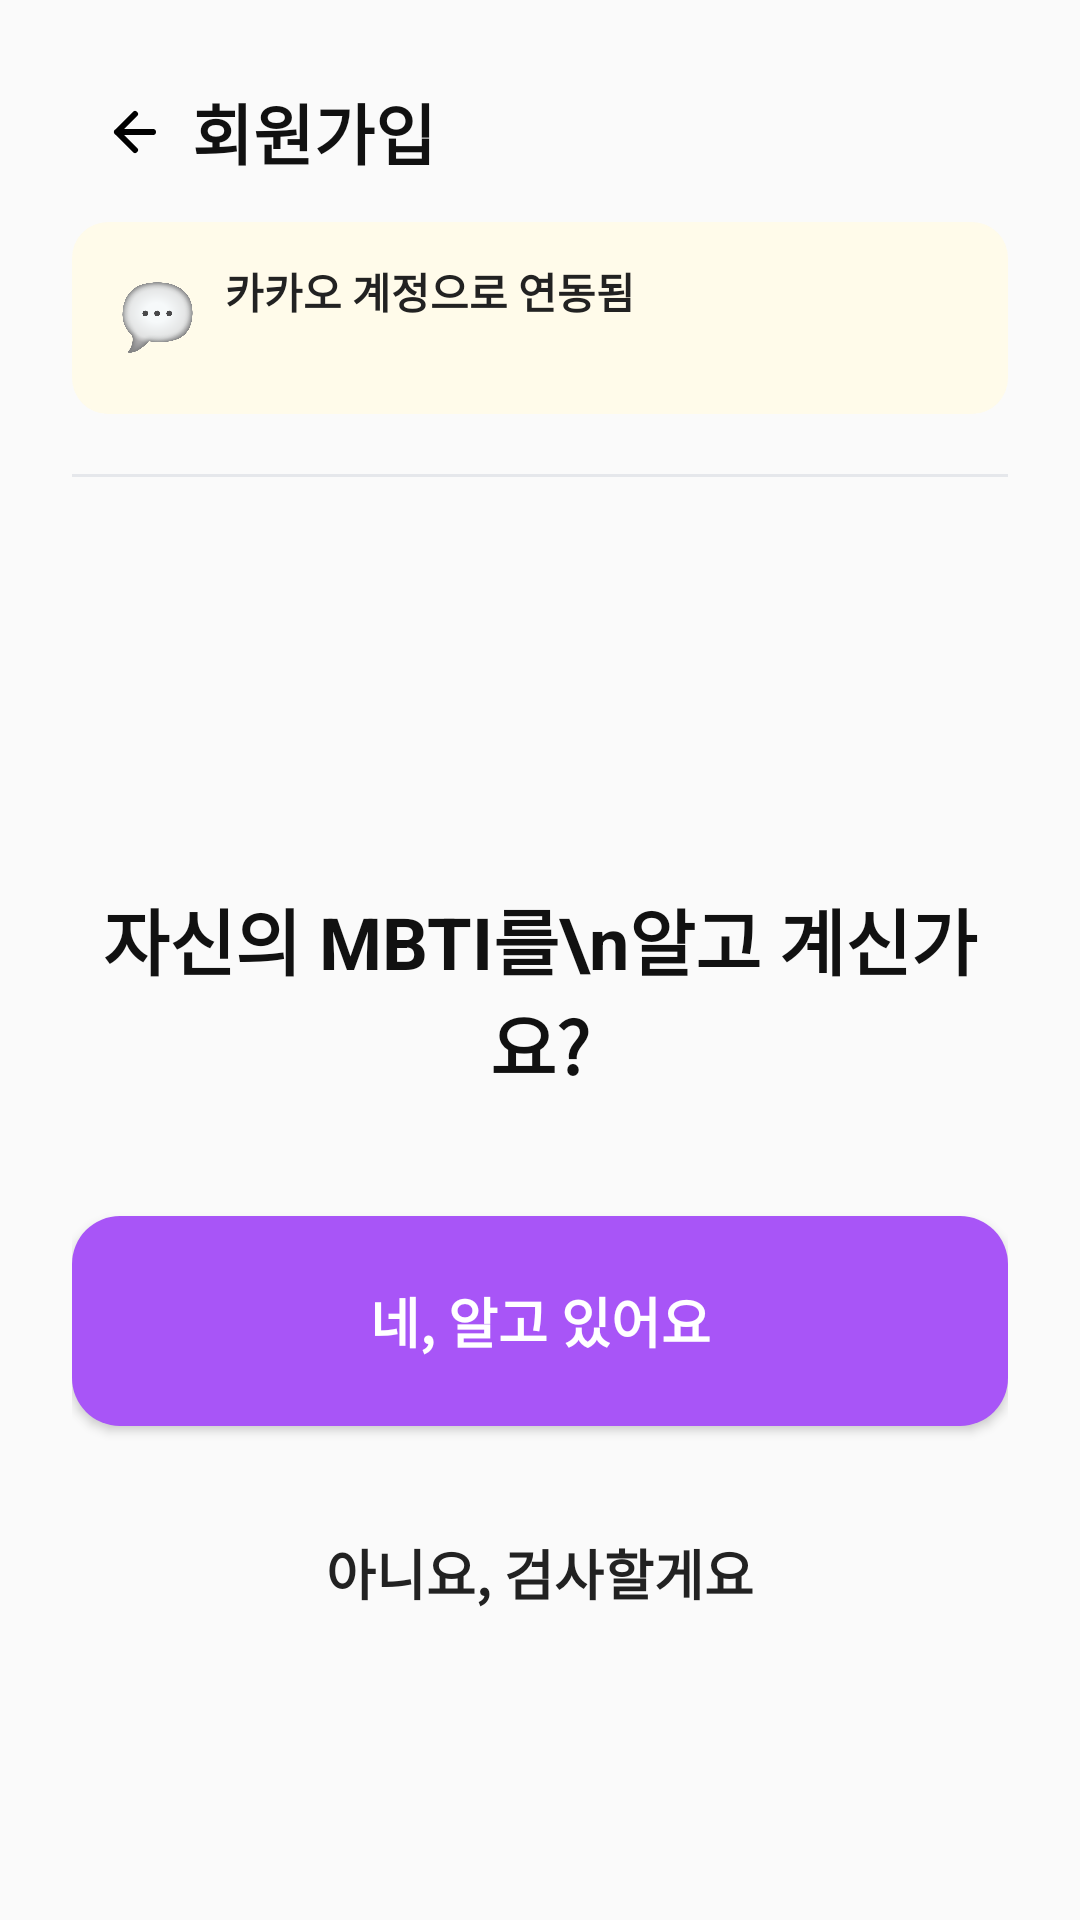

Screen size 1080 × 1920. Icon name, then its center in pixels as [x,y]:
back: [135,132]
emoji chat: [157,317]
